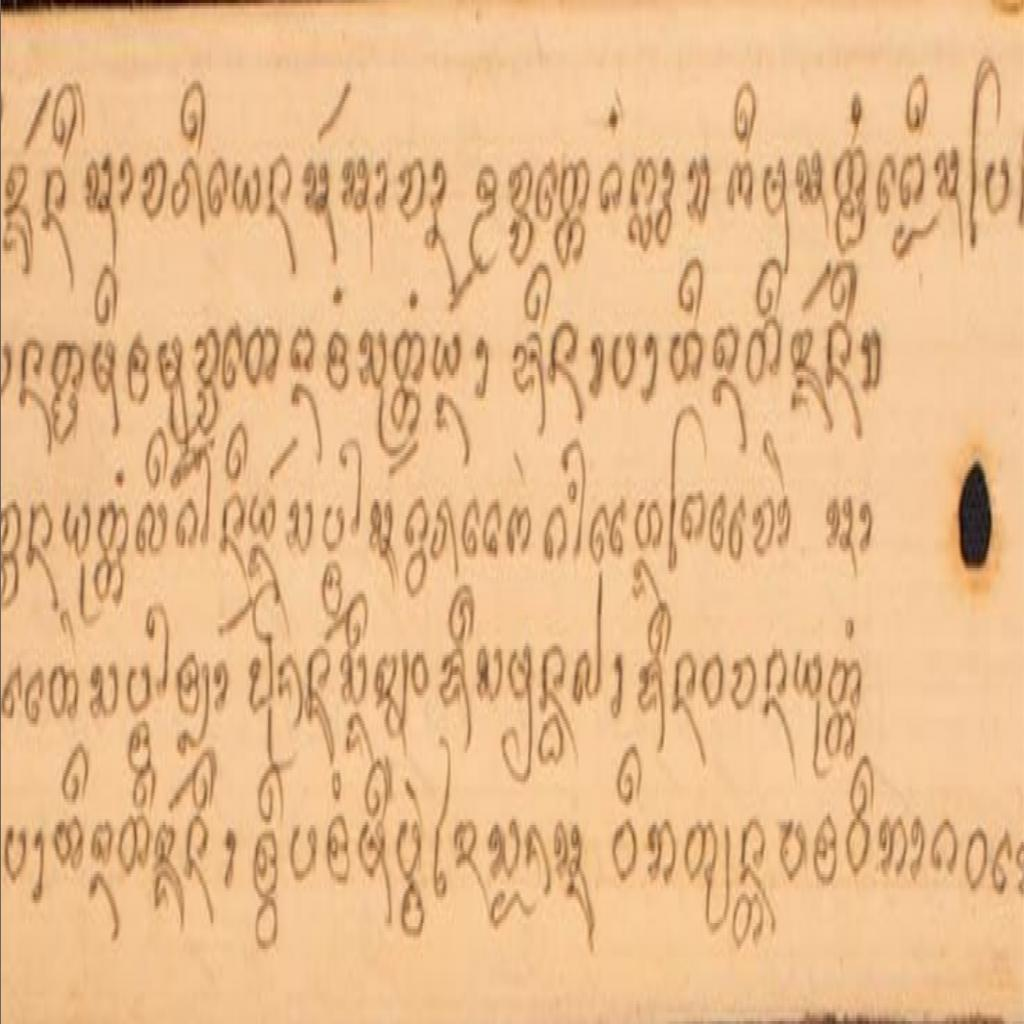LN003: (929, 813, 961, 883)
LN030: (878, 812, 910, 884)
